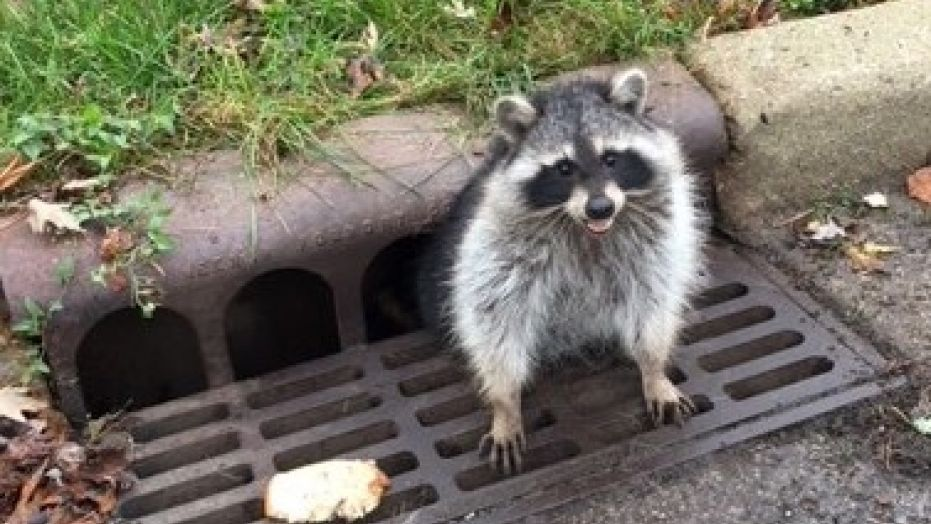raccoon: (406, 65, 723, 473)
